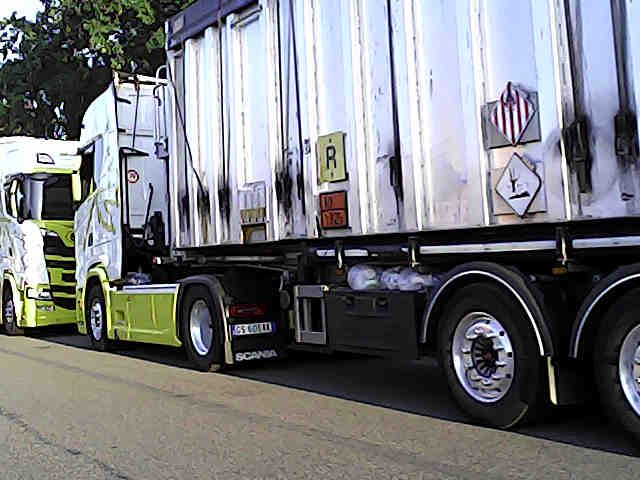whitevan: (75, 0, 639, 435), (0, 137, 79, 334)
